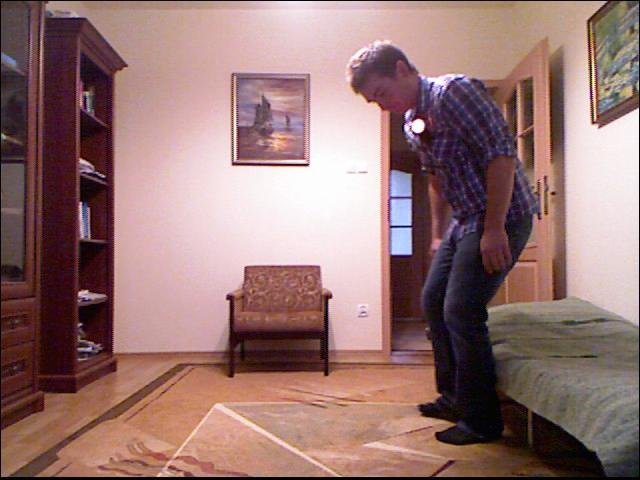bending: (354, 13, 532, 451)
